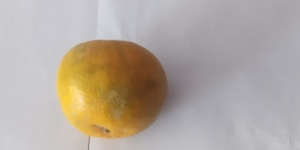BAD: (56, 38, 169, 140)
